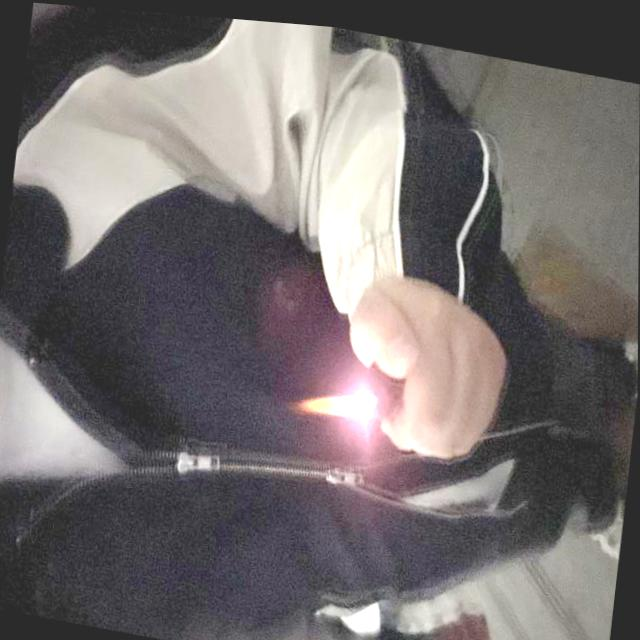helmet: (291, 377, 371, 420)
